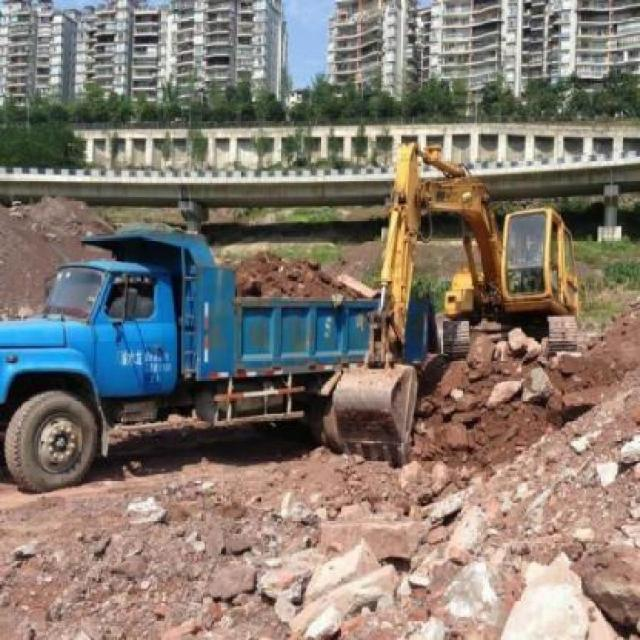Dump Truck: (0, 224, 385, 496)
Excavator: (330, 134, 578, 461)
